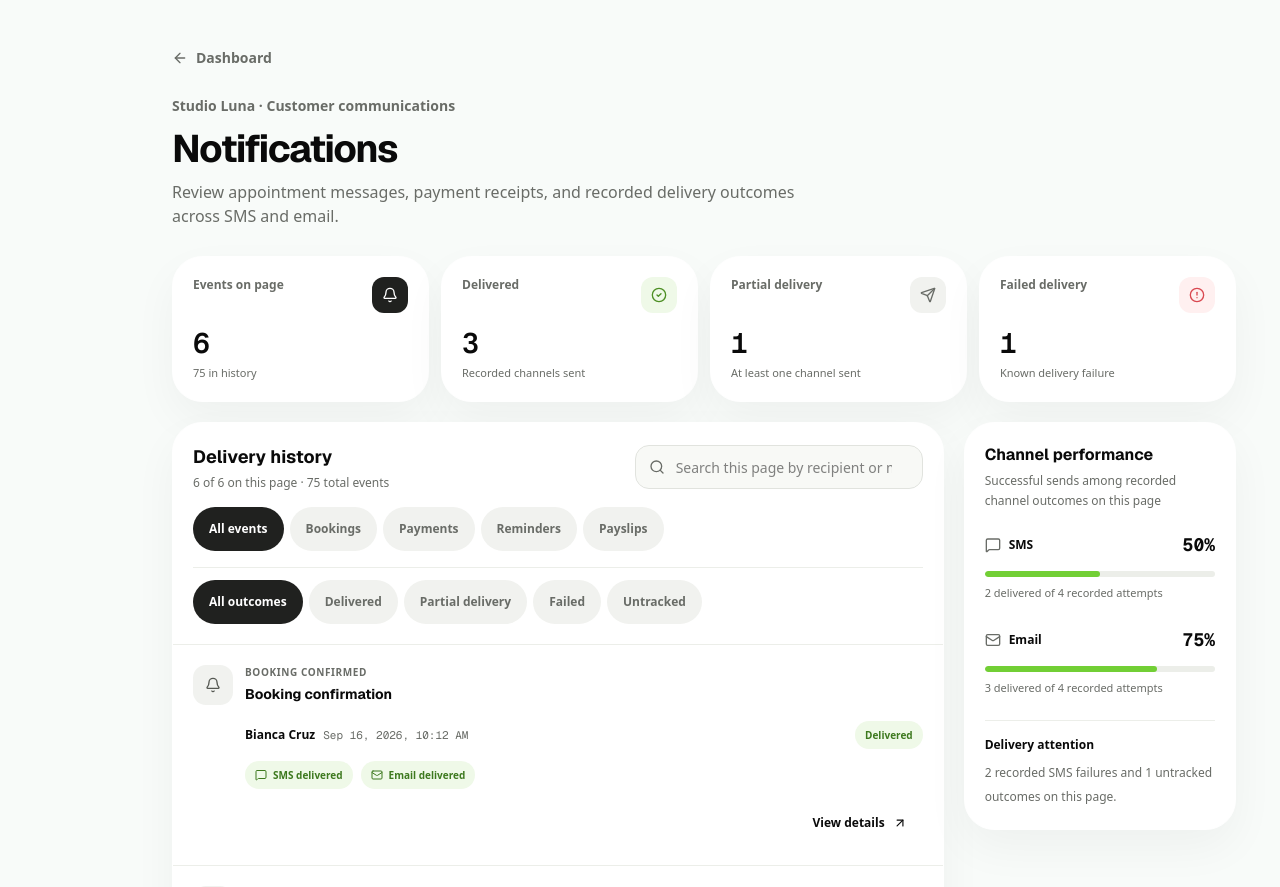
Test case: Notifications preview › distinguishes partial channel delivery from failed delivery
Click the button "Partial delivery": (465,602) x1=404 y1=580 x2=527 y2=624
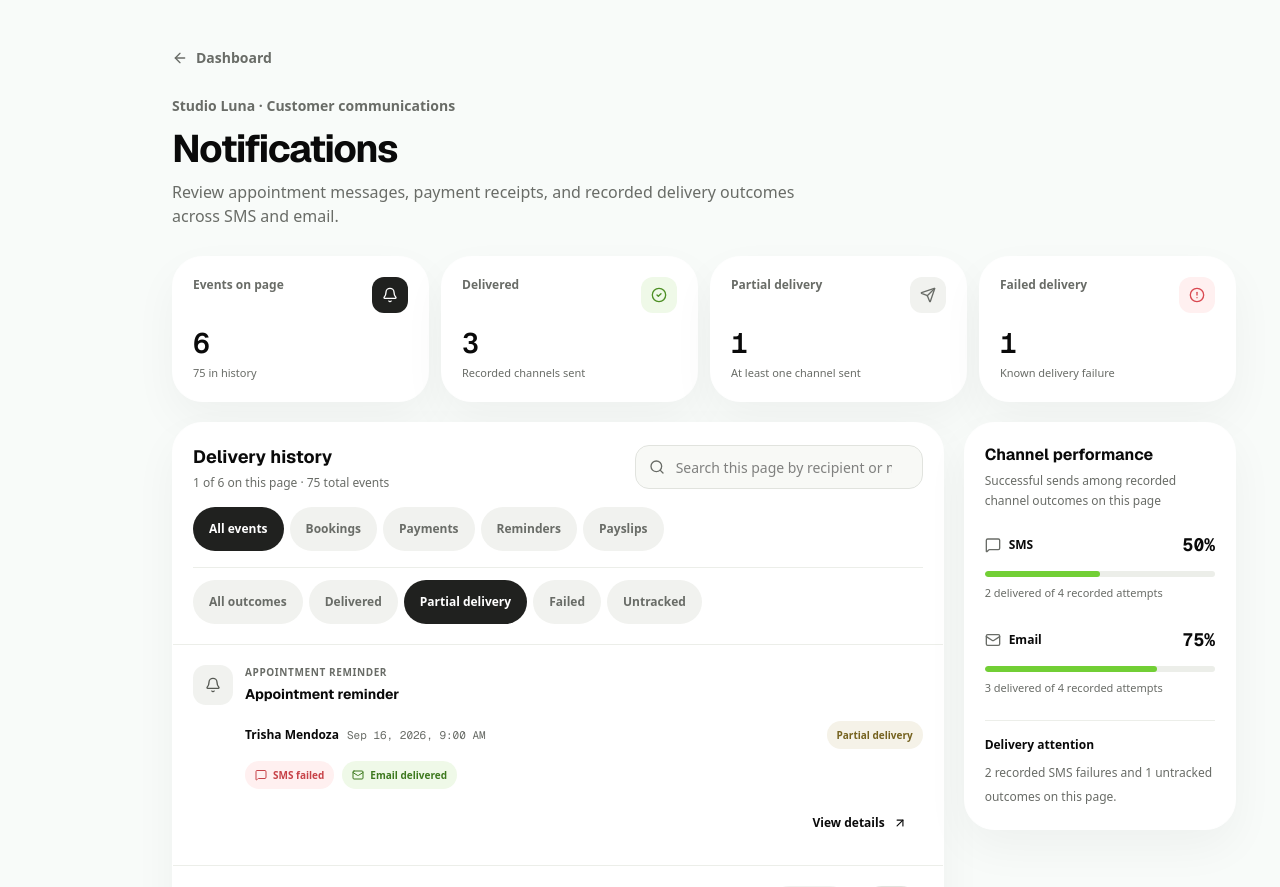
Expected: the text "Trisha Mendoza" is shown, x1=245 y1=726 x2=339 y2=743
Result: the message shows "1 of 6 on this page" at x1=193 y1=475 x2=389 y2=491
Click the button "Failed": (567,602) x1=533 y1=580 x2=601 y2=624
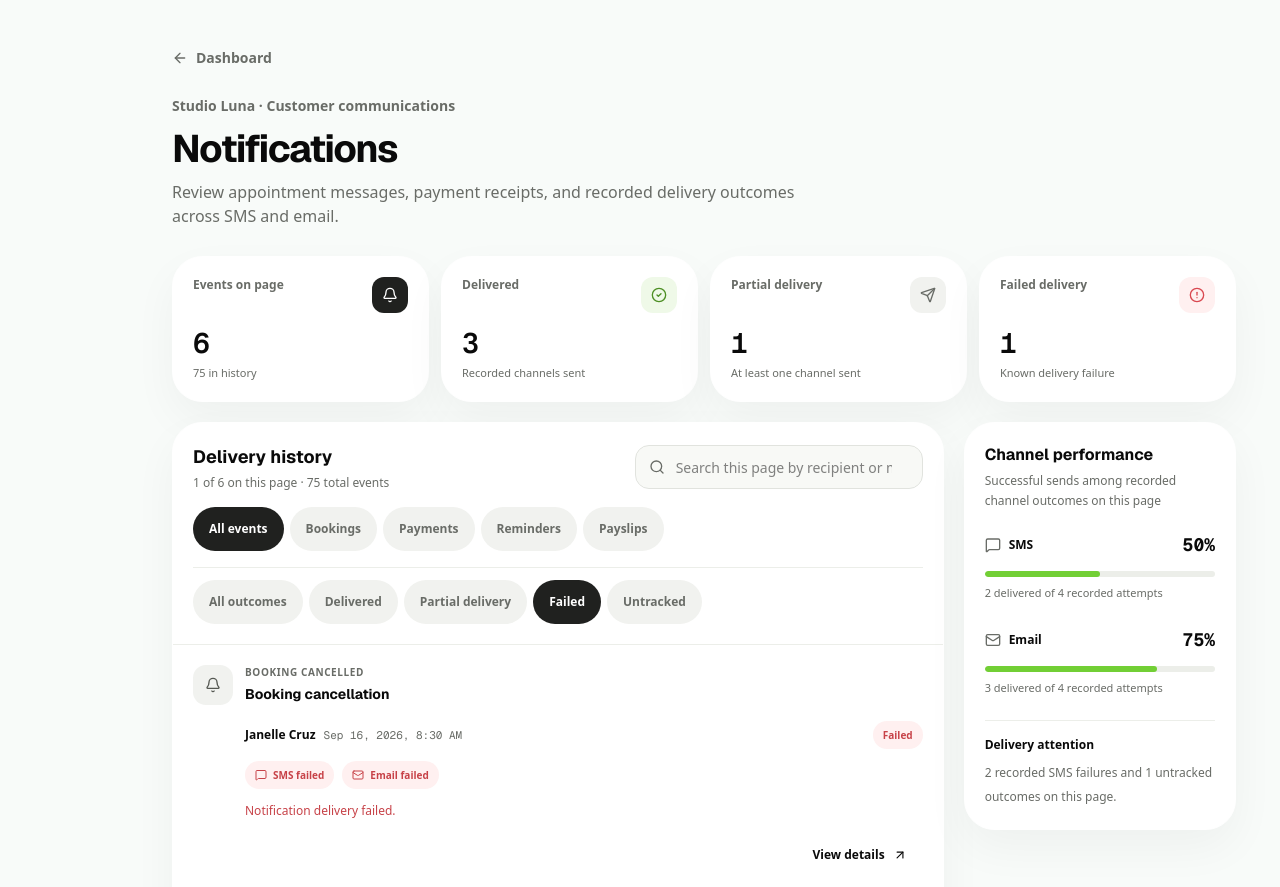
Result: the text "Janelle Cruz" is shown at x1=245 y1=726 x2=316 y2=743
Result: the text "Trisha Mendoza" is gone
